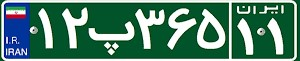character: (87, 12, 135, 58), (134, 5, 167, 56), (195, 5, 228, 56), (166, 4, 198, 56), (59, 5, 90, 57), (263, 15, 291, 60), (33, 6, 57, 56), (233, 15, 259, 59)
